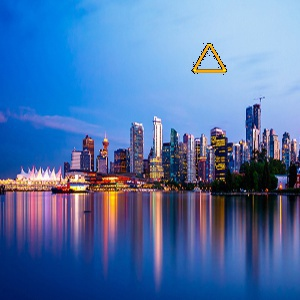triangle: (190, 41, 229, 76)
